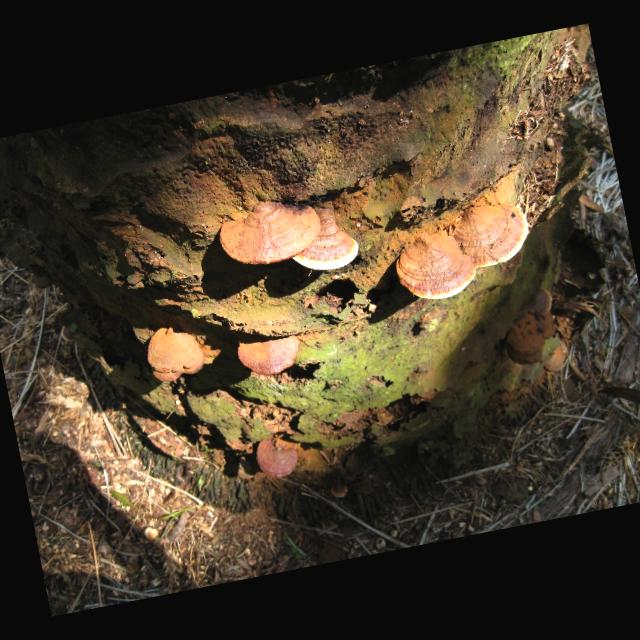ganoderma: (215, 191, 329, 275), (391, 226, 484, 309), (448, 195, 538, 275), (142, 320, 211, 389), (235, 330, 310, 385), (501, 312, 563, 370), (290, 230, 363, 279), (253, 434, 307, 484), (527, 286, 559, 322), (541, 346, 569, 375), (330, 480, 352, 503)
